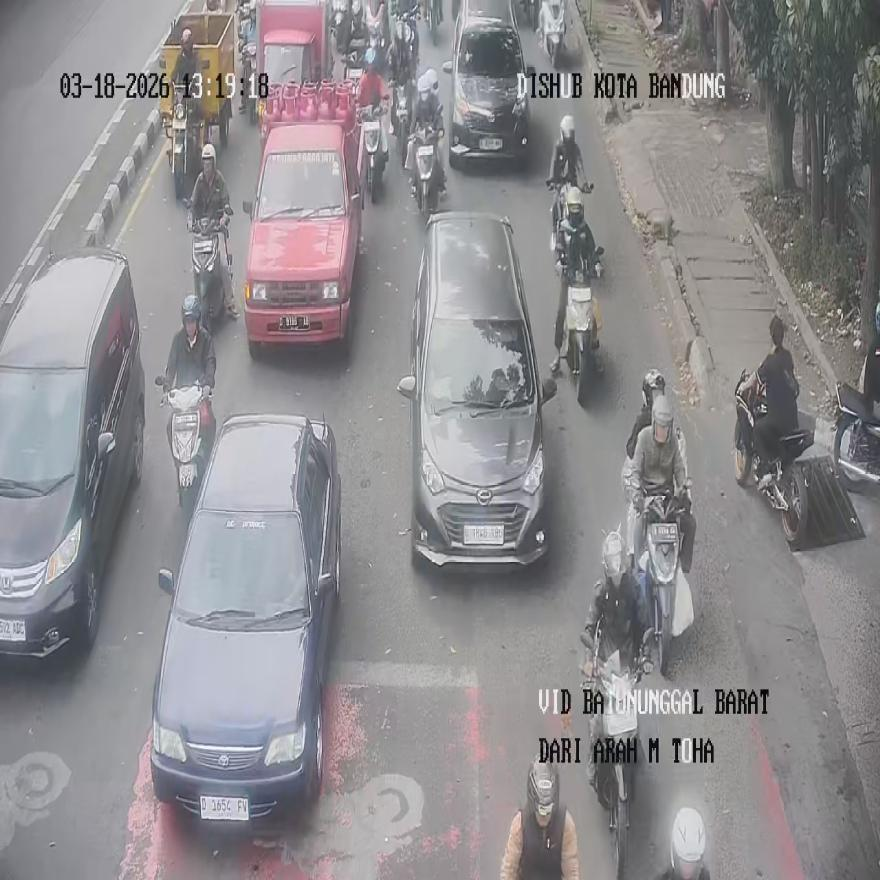Motor: (149, 414, 340, 825), (0, 248, 144, 658), (397, 210, 558, 567), (242, 118, 363, 354), (443, 0, 535, 165)
Truk: (581, 624, 652, 878), (734, 370, 816, 542), (631, 490, 688, 675), (501, 755, 578, 880), (156, 377, 215, 514), (186, 200, 232, 332), (560, 268, 601, 404), (832, 382, 880, 492), (168, 77, 203, 199), (409, 121, 446, 219), (359, 106, 388, 204), (536, 1, 566, 70), (390, 82, 412, 170), (238, 42, 256, 122)
